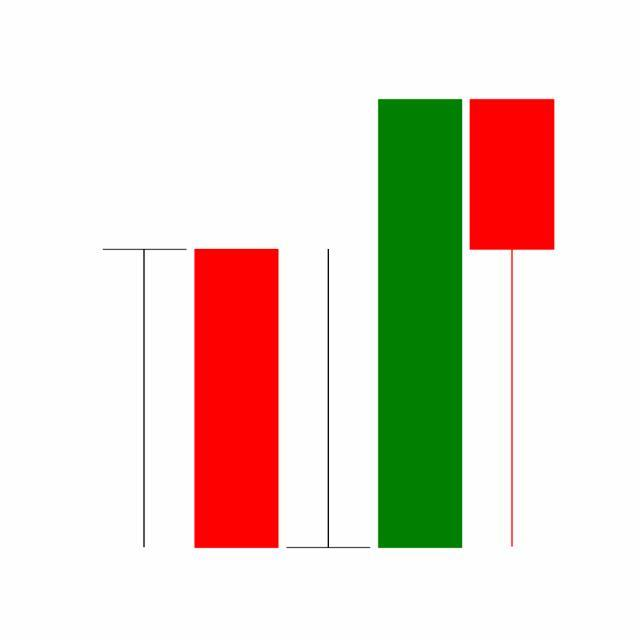Marubozu: (374, 95, 468, 553)
